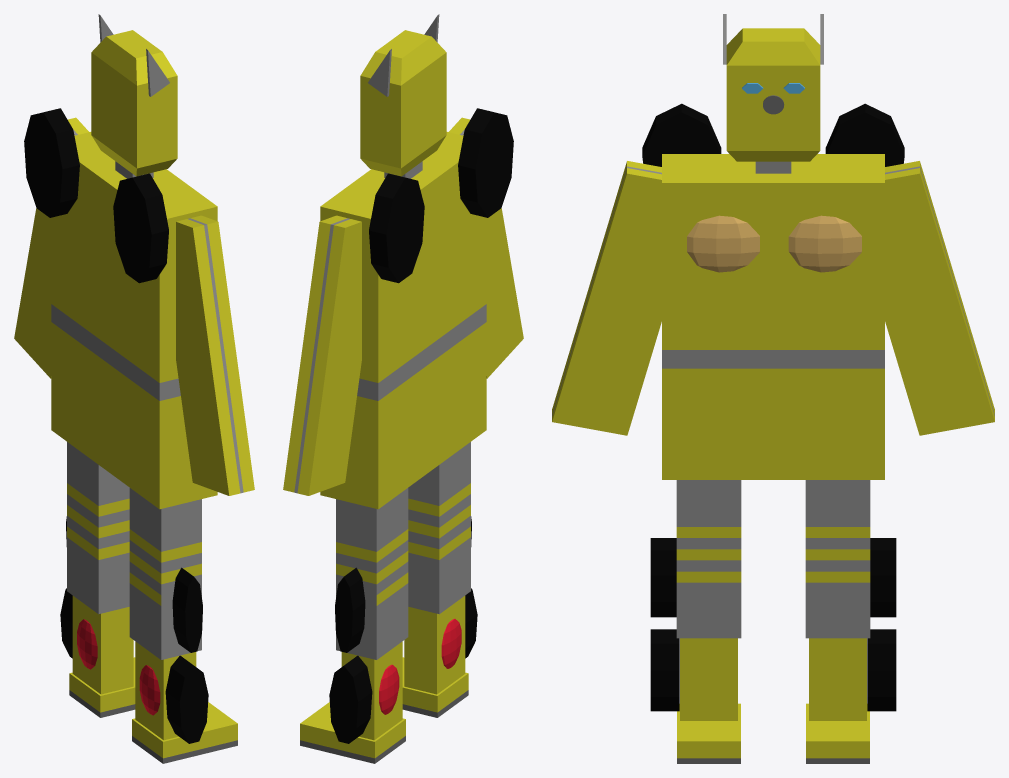
The model's file is transformer.gltf.
3 renders of one model, left to right at view 1: azimuth 30°, elevation 25°; view 2: azimuth 150°, elevation 25°; view 3: azimuth 270°, elevation 25°, orthographic. The views are drawn at different scales.
Visible parts, largest first — view 1: torso, left_upper_arm, head, left_upper_leg, right_upper_leg, left_front_heel, right_front_heel, right_upper_arm, right_lower_leg, left_lower_heel, left_foot, left_lower_leg (+6 smaller); view 2: torso, right_upper_arm, head, right_upper_leg, left_upper_leg, right_front_heel, left_front_heel, left_upper_arm, left_lower_leg, right_lower_heel, right_foot, right_lower_leg (+6 smaller); view 3: torso, left_upper_arm, right_upper_arm, head, left_upper_leg, right_upper_leg, left_lower_leg, right_lower_leg, right_front_light, left_front_light, left_front_heel, right_front_heel (+6 smaller).
Part boxes in pixels (box(x1,y1,x2,y2)): torso: box(51, 132, 217, 509); left_upper_arm: box(176, 215, 254, 495); head: box(91, 30, 177, 176); left_upper_leg: box(129, 488, 201, 659); right_upper_leg: box(67, 442, 129, 614); left_front_heel: box(113, 173, 168, 283); right_front_heel: box(24, 108, 79, 217); right_upper_arm: box(14, 117, 88, 378); right_lower_leg: box(72, 596, 133, 694); left_lower_heel: box(165, 655, 208, 743); left_foot: box(132, 702, 237, 763); left_lower_leg: box(135, 641, 196, 740); torso: box(320, 132, 486, 509); right_upper_arm: box(283, 215, 361, 495); head: box(360, 30, 446, 176); right_upper_leg: box(336, 488, 408, 659); left_upper_leg: box(408, 442, 470, 614); right_front_heel: box(369, 173, 424, 283); left_front_heel: box(458, 108, 513, 217); left_upper_arm: box(449, 117, 523, 378); left_lower_leg: box(404, 596, 465, 694); right_lower_heel: box(329, 655, 372, 743); right_foot: box(300, 702, 405, 763); right_lower_leg: box(341, 641, 402, 740); torso: box(662, 154, 884, 479); left_upper_arm: box(552, 161, 661, 435); right_upper_arm: box(885, 161, 994, 435); head: box(726, 28, 820, 161); left_upper_leg: box(676, 480, 741, 638); right_upper_leg: box(805, 480, 870, 638); left_lower_leg: box(680, 638, 737, 720); right_lower_leg: box(809, 638, 866, 720); right_front_light: box(788, 215, 861, 272); left_front_light: box(687, 215, 759, 272); left_front_heel: box(642, 103, 721, 166); right_front_heel: box(825, 103, 904, 166).
Size of the model in its own units: 1.1 by 7.09 by 3.97.
